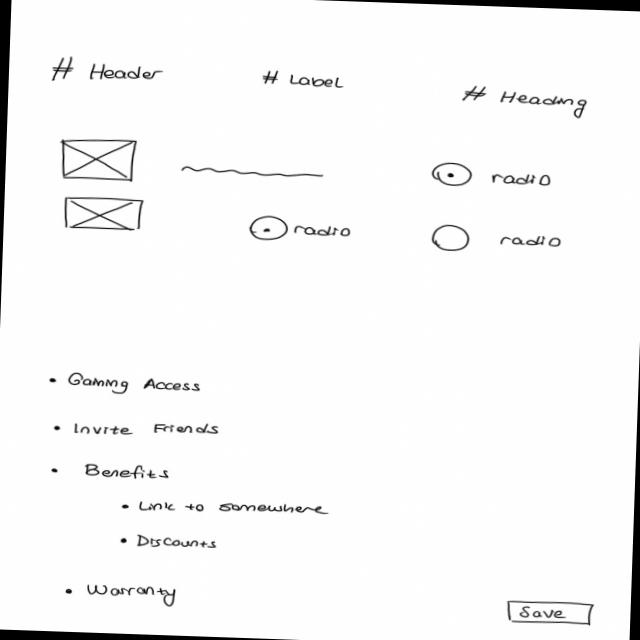button: (506, 598, 594, 626)
image: (59, 136, 138, 180), (60, 194, 144, 232)
label: (459, 83, 590, 119), (138, 496, 330, 518), (48, 54, 166, 88), (65, 370, 202, 398), (72, 416, 220, 441), (84, 582, 177, 607), (261, 68, 346, 90), (82, 462, 172, 482), (134, 532, 219, 550)
radio: (430, 222, 563, 255), (430, 160, 552, 190), (249, 214, 353, 244)
text: (178, 163, 324, 180)
